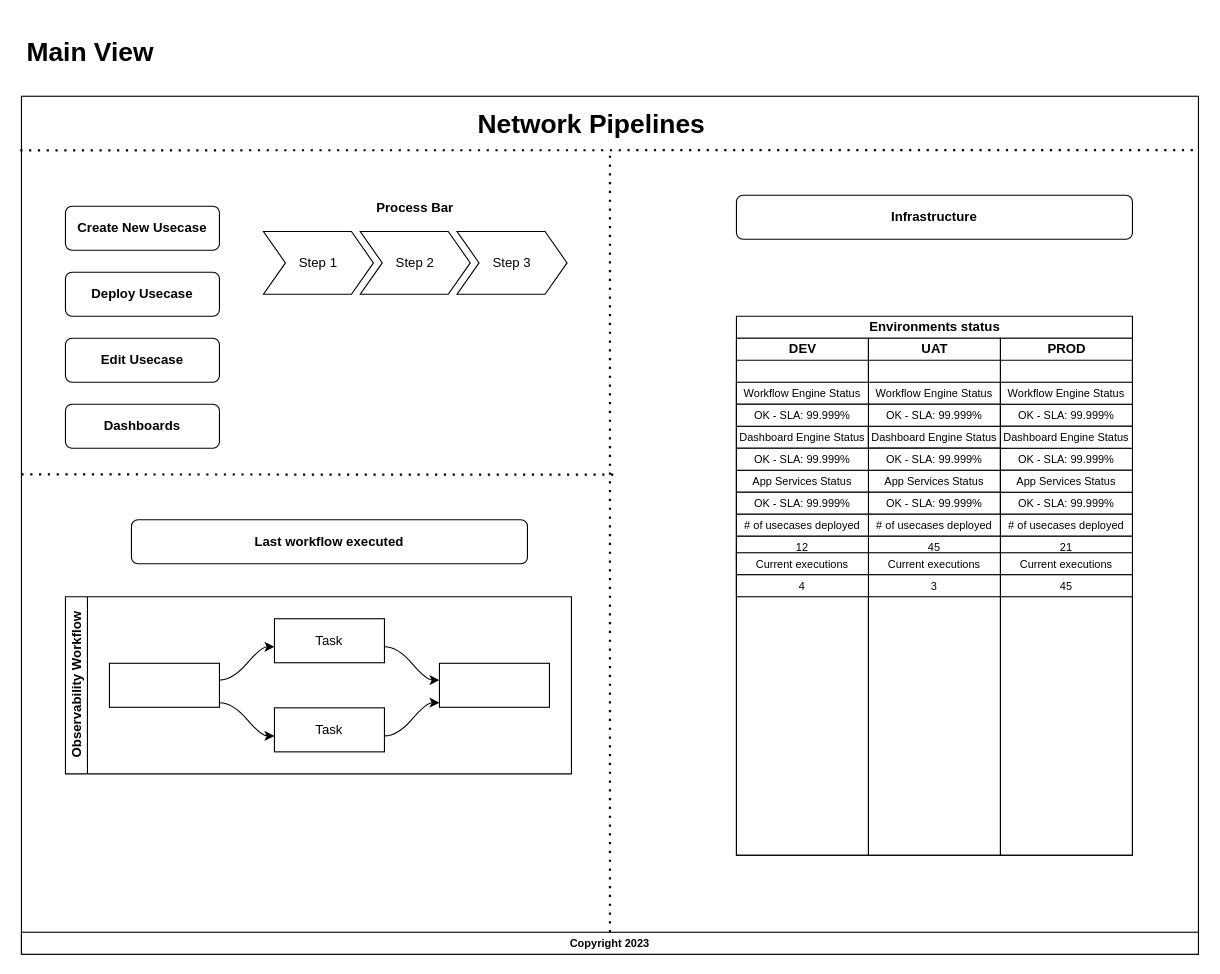
Some shapes in this 1220 by 974 pixel diagram are drawn without their labels. Here are the shapes that lost their labels. From the top down, the centre of each, then its label:
(x=163, y=684): Start
(x=493, y=684): End
